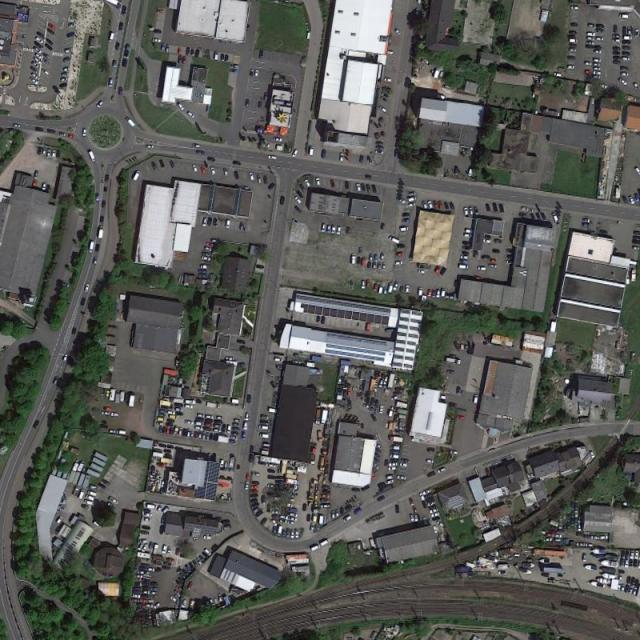vehicle: (99, 1, 123, 10), (126, 116, 137, 128), (389, 235, 401, 245), (88, 150, 97, 163), (133, 170, 142, 182), (322, 410, 329, 425), (551, 212, 560, 223), (294, 195, 303, 206), (108, 496, 119, 505), (319, 538, 330, 547), (310, 544, 321, 553), (298, 183, 307, 193), (422, 488, 433, 496), (426, 470, 437, 478), (296, 190, 305, 199), (35, 36, 44, 45), (30, 65, 39, 74), (30, 77, 39, 86), (178, 572, 187, 581), (371, 455, 380, 464), (371, 461, 380, 470), (267, 182, 276, 191), (177, 102, 186, 111), (378, 106, 388, 114), (186, 111, 196, 119), (107, 502, 117, 510), (102, 478, 112, 486), (98, 226, 104, 239), (629, 195, 636, 206), (422, 200, 429, 211), (498, 203, 505, 214), (407, 196, 418, 203), (485, 467, 492, 478), (619, 78, 628, 86), (439, 267, 447, 276), (418, 493, 426, 502), (304, 179, 312, 188), (294, 205, 302, 214), (41, 68, 50, 76), (42, 52, 51, 60), (45, 43, 54, 51), (31, 61, 40, 69), (31, 71, 39, 80), (68, 22, 77, 30), (89, 242, 95, 254), (198, 554, 206, 563), (182, 568, 190, 577), (255, 509, 263, 518), (175, 579, 184, 587), (377, 482, 386, 490), (361, 484, 370, 492), (370, 414, 378, 423), (343, 515, 352, 523), (150, 162, 158, 171), (622, 195, 629, 205), (482, 238, 492, 245), (427, 200, 434, 210), (436, 521, 446, 528), (35, 31, 45, 38), (108, 33, 115, 43), (53, 376, 60, 386), (298, 529, 305, 539), (57, 515, 64, 525), (595, 23, 606, 29), (541, 211, 547, 222), (506, 248, 517, 254), (388, 283, 394, 294), (426, 501, 437, 507), (430, 512, 441, 518), (468, 167, 474, 178), (108, 78, 114, 89), (84, 283, 90, 294), (222, 525, 233, 531), (200, 256, 211, 262), (394, 28, 402, 36), (46, 38, 54, 46), (42, 58, 50, 66), (34, 41, 42, 49), (34, 46, 42, 54), (34, 57, 42, 65), (96, 101, 104, 109), (202, 551, 210, 559), (191, 560, 199, 568), (174, 590, 182, 598), (373, 450, 381, 458), (354, 507, 362, 515), (291, 150, 299, 158), (98, 482, 106, 490), (393, 282, 400, 291), (535, 213, 542, 222), (449, 202, 456, 211), (398, 198, 407, 205), (365, 174, 374, 181), (46, 28, 55, 35), (47, 23, 56, 30), (64, 47, 73, 54), (33, 420, 40, 429), (187, 582, 194, 591), (205, 548, 212, 557), (188, 562, 195, 571), (185, 565, 192, 574), (271, 518, 278, 527), (251, 502, 260, 509), (250, 498, 259, 505), (377, 495, 386, 502), (437, 467, 446, 474), (378, 379, 385, 388), (86, 494, 95, 501), (634, 193, 640, 203), (464, 207, 470, 217), (485, 203, 491, 213), (492, 202, 498, 212), (400, 227, 410, 233), (429, 508, 439, 514), (424, 493, 434, 499), (428, 504, 438, 510), (432, 516, 442, 522), (554, 72, 564, 78), (66, 32, 76, 38), (58, 82, 68, 88), (244, 481, 250, 491), (278, 526, 283, 538), (426, 447, 436, 453), (249, 172, 255, 182), (225, 356, 235, 362), (88, 490, 98, 496), (84, 500, 94, 506), (146, 505, 158, 510), (59, 131, 67, 138), (530, 214, 537, 222), (434, 266, 441, 274), (62, 354, 69, 362), (195, 558, 202, 566), (178, 577, 186, 584), (260, 518, 267, 526), (170, 596, 178, 603), (154, 602, 161, 610), (371, 466, 378, 474), (370, 470, 377, 478), (390, 395, 398, 402), (219, 493, 226, 501), (418, 287, 423, 298), (487, 264, 498, 269), (459, 259, 470, 264), (619, 14, 630, 19), (261, 495, 266, 506), (291, 361, 302, 366), (200, 265, 211, 270), (102, 406, 113, 411), (378, 285, 384, 294), (373, 283, 379, 292), (519, 212, 528, 218), (624, 584, 630, 593), (620, 559, 626, 568), (422, 518, 428, 527), (569, 43, 578, 49), (599, 83, 608, 89), (330, 179, 336, 188), (366, 185, 372, 194), (372, 185, 378, 194), (62, 66, 71, 72), (166, 546, 172, 555), (397, 475, 406, 481), (263, 176, 269, 185), (234, 171, 240, 180), (202, 218, 208, 227), (237, 339, 246, 345), (159, 159, 165, 168), (219, 459, 225, 468), (169, 414, 178, 420), (167, 410, 176, 416), (46, 129, 56, 134), (622, 40, 632, 45), (595, 28, 605, 33), (635, 167, 640, 177), (459, 265, 469, 270), (433, 200, 438, 210), (469, 206, 474, 216), (474, 207, 479, 217), (547, 529, 557, 534), (339, 153, 344, 163), (42, 182, 47, 192), (118, 86, 123, 96), (384, 376, 389, 386), (266, 463, 276, 468), (267, 475, 277, 480), (310, 523, 315, 533), (276, 475, 286, 480), (260, 433, 270, 438), (274, 358, 284, 363), (257, 175, 262, 185), (280, 196, 285, 206), (232, 161, 242, 166), (201, 253, 211, 258), (259, 50, 264, 60), (192, 144, 202, 149), (32, 180, 38, 188), (366, 262, 372, 270), (438, 202, 444, 210), (444, 202, 450, 210), (409, 191, 417, 197), (402, 218, 410, 224), (412, 506, 418, 514), (422, 501, 428, 509), (542, 538, 554, 542), (356, 184, 362, 192), (34, 53, 42, 59), (72, 327, 78, 335), (162, 546, 168, 554), (426, 458, 434, 464), (457, 415, 465, 421), (378, 406, 384, 414), (142, 545, 148, 553), (207, 218, 213, 226), (170, 161, 176, 169), (210, 167, 216, 175), (206, 242, 214, 248), (205, 246, 213, 252), (192, 165, 198, 173), (175, 446, 183, 452), (34, 127, 43, 132), (34, 170, 39, 179), (624, 36, 633, 41), (586, 36, 595, 41), (622, 51, 631, 56), (622, 56, 631, 61), (613, 50, 622, 55), (587, 32, 596, 37), (621, 72, 630, 77), (441, 289, 446, 298), (428, 289, 433, 298), (506, 260, 515, 265), (492, 249, 501, 254), (380, 252, 385, 261), (337, 226, 342, 235), (478, 266, 487, 271), (461, 255, 470, 260), (635, 579, 640, 588), (626, 576, 631, 585), (591, 535, 600, 540), (625, 559, 630, 568), (621, 550, 626, 559), (630, 550, 635, 559), (635, 550, 640, 559), (633, 559, 638, 568), (570, 502, 575, 511), (567, 56, 576, 61), (593, 71, 602, 76), (326, 225, 331, 234), (322, 224, 327, 233), (359, 155, 364, 164), (395, 149, 400, 158), (376, 146, 385, 151), (60, 72, 69, 77), (60, 77, 69, 82), (52, 149, 57, 158), (42, 147, 47, 156), (115, 42, 120, 51), (266, 504, 271, 513), (249, 454, 254, 463), (138, 566, 147, 571), (221, 520, 230, 525), (131, 598, 140, 603), (141, 594, 150, 599), (145, 604, 154, 609), (389, 462, 398, 467), (351, 487, 360, 492), (394, 505, 399, 514), (399, 462, 408, 467), (401, 458, 410, 463), (450, 450, 459, 455), (456, 387, 461, 396), (446, 370, 455, 375), (267, 469, 276, 474), (280, 514, 289, 519), (289, 513, 298, 518), (289, 517, 298, 522), (226, 220, 231, 229), (212, 239, 221, 244), (101, 411, 110, 416), (110, 413, 119, 418), (117, 430, 126, 435), (194, 50, 199, 59), (190, 48, 195, 57), (122, 6, 127, 15), (232, 427, 241, 432), (161, 480, 166, 489), (144, 513, 153, 518), (142, 525, 151, 530), (185, 405, 194, 410), (204, 427, 213, 432), (204, 422, 213, 427), (214, 420, 223, 425), (352, 254, 356, 265), (320, 505, 331, 509), (102, 199, 106, 210), (398, 252, 405, 258), (177, 566, 183, 573), (138, 544, 144, 551), (13, 124, 21, 129), (582, 218, 590, 223), (613, 60, 621, 65), (613, 55, 621, 60), (587, 23, 595, 28), (634, 82, 639, 90), (432, 290, 437, 298), (482, 254, 490, 259), (362, 280, 366, 290), (374, 254, 379, 262), (409, 203, 417, 208), (402, 213, 410, 218), (463, 234, 473, 238), (618, 574, 623, 582), (629, 586, 634, 594), (633, 587, 638, 595), (629, 559, 634, 567), (433, 526, 438, 534), (576, 543, 586, 547), (582, 554, 587, 562), (600, 536, 610, 540), (546, 533, 554, 538), (558, 522, 563, 530), (556, 530, 566, 534), (563, 522, 568, 530), (566, 522, 571, 530), (570, 518, 575, 526), (574, 510, 579, 518), (570, 22, 578, 27), (570, 6, 580, 10), (570, 48, 578, 53), (567, 65, 575, 70), (594, 45, 602, 50), (331, 226, 336, 234), (316, 178, 321, 186), (361, 183, 366, 191), (374, 150, 384, 154), (454, 166, 458, 176), (376, 142, 386, 146), (415, 9, 420, 17), (122, 59, 127, 67), (410, 514, 415, 522), (95, 244, 100, 252), (125, 50, 130, 58), (126, 44, 131, 52), (118, 22, 123, 30), (272, 527, 277, 535), (249, 494, 259, 498), (175, 586, 183, 591), (136, 570, 146, 574), (148, 567, 156, 572), (132, 590, 142, 594), (133, 594, 141, 599), (140, 598, 148, 603), (390, 454, 400, 458), (390, 450, 400, 454), (391, 446, 401, 450), (258, 461, 266, 466), (288, 521, 296, 526), (276, 480, 286, 484), (320, 494, 330, 498), (331, 510, 335, 520), (335, 510, 340, 518), (259, 426, 269, 430), (201, 166, 206, 174), (243, 422, 248, 430), (214, 51, 218, 61), (186, 46, 190, 56), (153, 38, 161, 43), (154, 29, 162, 34), (230, 69, 238, 74), (254, 70, 259, 78), (268, 156, 278, 160), (310, 146, 314, 156), (245, 414, 250, 422), (140, 530, 150, 534), (167, 445, 175, 450), (230, 436, 238, 441), (227, 494, 232, 502), (174, 404, 184, 408), (195, 421, 203, 426), (214, 424, 222, 429), (214, 428, 222, 433), (226, 426, 231, 434), (104, 174, 109, 182), (100, 215, 104, 225), (628, 26, 632, 35), (635, 29, 639, 38), (622, 46, 631, 50), (507, 254, 516, 258), (397, 245, 406, 249), (394, 261, 403, 265), (417, 270, 426, 274), (465, 230, 474, 234), (462, 241, 471, 245), (586, 41, 595, 45), (632, 577, 636, 586), (626, 551, 630, 560), (575, 502, 579, 511), (498, 571, 507, 575), (570, 39, 579, 43), (593, 75, 602, 79), (384, 78, 393, 82), (410, 498, 414, 507), (415, 514, 419, 523), (113, 60, 117, 69), (47, 149, 51, 158), (251, 473, 260, 477), (141, 563, 150, 567), (162, 566, 171, 570), (166, 558, 175, 562), (286, 529, 290, 538), (474, 395, 478, 404), (295, 530, 299, 539), (279, 519, 288, 523), (267, 484, 276, 488), (321, 499, 330, 503), (340, 506, 344, 515), (139, 540, 148, 544), (207, 158, 216, 162), (198, 270, 207, 274), (247, 394, 251, 403), (206, 50, 210, 59), (166, 44, 170, 53), (162, 42, 166, 51), (196, 150, 205, 154), (156, 422, 165, 426), (196, 418, 205, 422), (222, 425, 226, 434), (170, 426, 174, 435), (178, 427, 182, 436), (182, 428, 186, 437), (186, 429, 190, 438), (63, 58, 70, 63), (210, 599, 215, 606), (387, 480, 394, 485), (223, 169, 228, 176), (231, 431, 238, 436), (229, 439, 236, 444), (167, 418, 174, 423), (632, 246, 640, 250), (623, 26, 627, 34), (632, 239, 640, 243), (621, 67, 629, 71), (612, 38, 620, 42), (612, 34, 620, 38), (406, 286, 410, 294), (437, 290, 441, 298), (366, 280, 370, 288), (382, 262, 386, 270), (378, 262, 382, 270), (362, 258, 366, 266), (370, 254, 374, 262), (462, 246, 470, 250), (597, 37, 605, 41), (618, 583, 622, 591), (586, 45, 594, 49), (567, 514, 571, 522), (586, 544, 594, 548), (554, 534, 562, 538), (575, 518, 579, 526), (576, 533, 584, 537), (568, 35, 576, 39), (594, 67, 602, 71), (594, 58, 602, 62), (594, 50, 602, 54), (346, 182, 350, 190), (94, 258, 98, 266), (82, 298, 86, 306), (57, 150, 61, 158), (38, 147, 42, 155), (204, 536, 212, 540), (218, 594, 222, 602), (282, 530, 286, 538), (250, 490, 258, 494), (250, 486, 258, 490), (164, 562, 172, 566), (176, 548, 180, 556), (134, 582, 142, 586), (142, 583, 150, 587), (142, 590, 150, 594), (150, 583, 158, 587), (150, 587, 158, 591), (389, 467, 397, 471), (394, 392, 402, 396), (390, 458, 398, 462), (303, 504, 307, 512), (306, 514, 310, 522), (214, 219, 218, 227), (198, 274, 206, 278), (182, 56, 186, 64), (221, 54, 225, 62), (178, 55, 182, 63), (178, 47, 182, 55), (225, 54, 229, 62), (231, 64, 239, 68), (246, 99, 250, 107), (264, 93, 268, 101), (274, 138, 282, 142), (146, 146, 154, 150), (322, 150, 326, 158), (242, 434, 246, 442), (234, 419, 242, 423), (164, 454, 172, 458), (164, 450, 172, 454), (159, 444, 167, 448), (202, 432, 206, 440), (214, 434, 218, 442), (210, 433, 214, 441), (213, 454, 217, 462), (143, 518, 151, 522), (206, 433, 210, 441), (198, 431, 202, 439), (206, 418, 214, 422), (206, 415, 214, 419), (197, 414, 205, 418), (159, 426, 163, 434), (166, 422, 174, 426), (175, 412, 183, 416), (175, 407, 183, 411), (186, 421, 194, 425), (195, 426, 203, 430), (166, 426, 170, 434), (190, 430, 194, 438), (103, 186, 107, 194), (95, 194, 99, 202), (634, 230, 640, 235), (217, 416, 223, 421), (633, 235, 640, 239), (614, 46, 621, 50), (373, 262, 377, 269), (357, 257, 361, 264), (621, 584, 625, 591), (584, 535, 591, 539), (571, 511, 575, 518), (578, 524, 582, 531), (585, 62, 592, 66), (594, 62, 601, 66), (246, 474, 250, 481), (252, 482, 259, 486), (150, 542, 154, 549), (138, 578, 145, 582), (272, 510, 279, 514), (347, 389, 351, 396), (233, 423, 240, 427), (194, 431, 198, 438), (384, 286, 387, 295), (569, 31, 578, 34), (291, 530, 294, 539), (614, 25, 617, 33), (83, 129, 86, 137), (137, 574, 143, 578), (134, 587, 142, 590), (142, 587, 150, 590), (148, 599, 154, 603), (110, 430, 116, 434), (208, 454, 211, 462), (163, 426, 166, 434), (151, 592, 158, 595), (285, 1, 289, 3), (281, 1, 285, 2)
